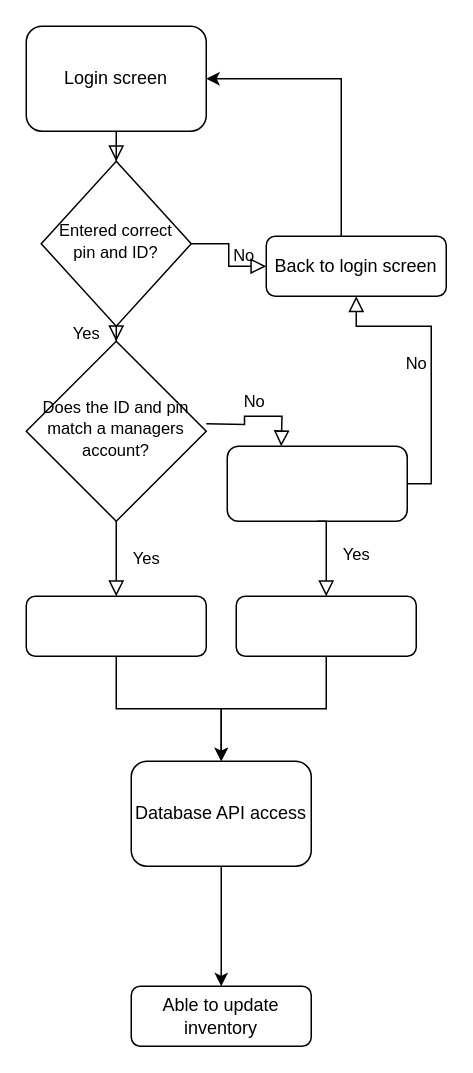
Some shapes in this 473 by 1073 pixel diagram are drawn without their labels. The centre of each missing label's shape, as x and y in pixels:
"Access to only clerk options" belongs at point 325,625.
"Does the ID and pin match a clerks account?" belongs at point 316,483.
"Full access to clerk and manager options" belongs at point 115,625.
